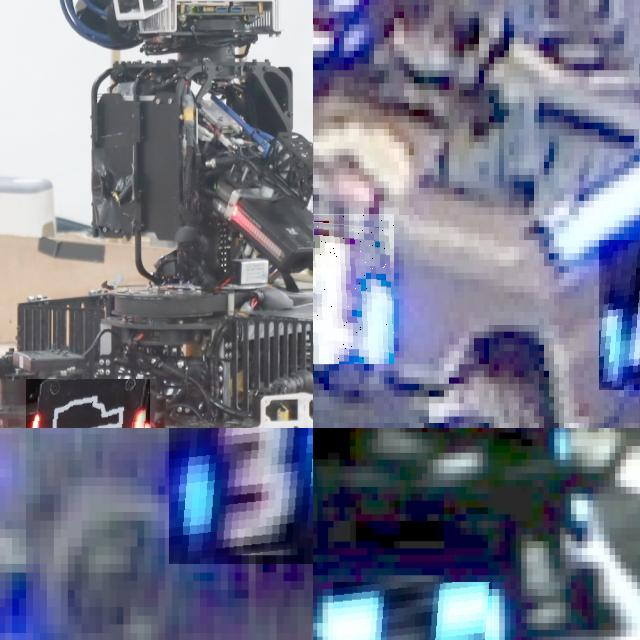B3: (168, 428, 313, 563)
B4: (313, 214, 394, 364), (599, 240, 640, 390)
Bs: (333, 582, 493, 640)
Rs: (26, 379, 150, 428)
